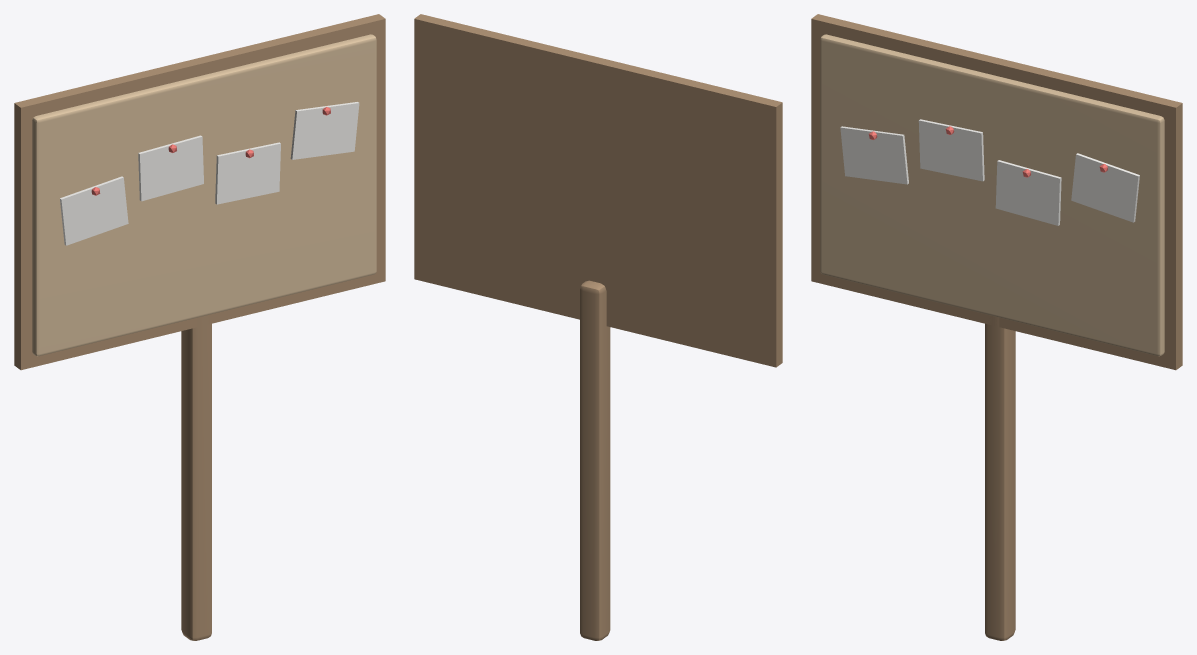
The model's file is WishBoard.fbx.
The picture shows the model from 3 angles, left to right: view 1: azimuth 30°, elevation 25°; view 2: azimuth 150°, elevation 25°; view 3: azimuth 330°, elevation 25°; orthographic projection.
Visible parts, largest first — view 1: WishBoard; view 2: WishBoard; view 3: WishBoard.
Boxes of the visible parts, x1,y1,x2,y2 form: WishBoard: (14,14,385,640); WishBoard: (414,14,782,640); WishBoard: (811,14,1182,640).
Bounding box in the file's own units: 1.28 × 1.94 × 0.1328.
